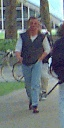person: (17, 18, 50, 113)
